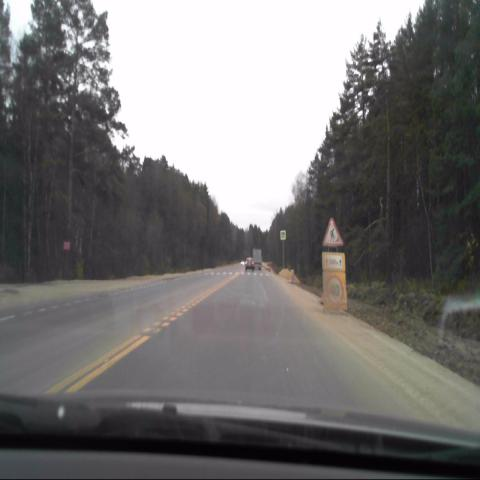1_25: (322, 217, 344, 247)
3_24: (326, 276, 342, 303)
